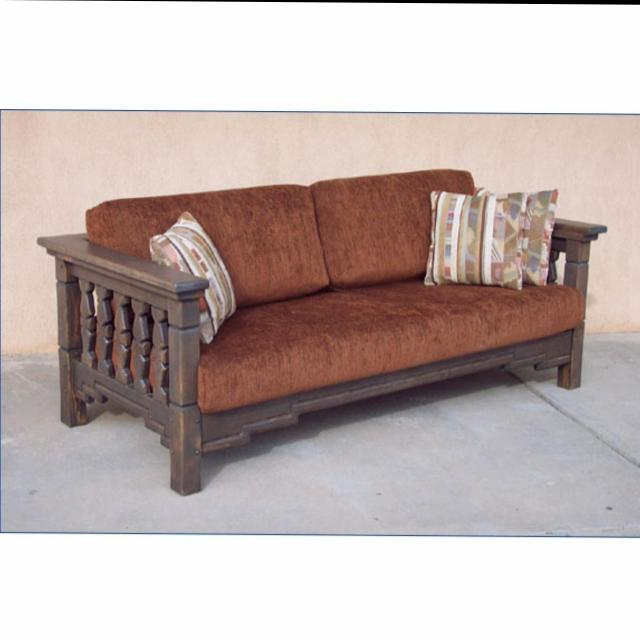Sofa: (37, 164, 607, 496)
